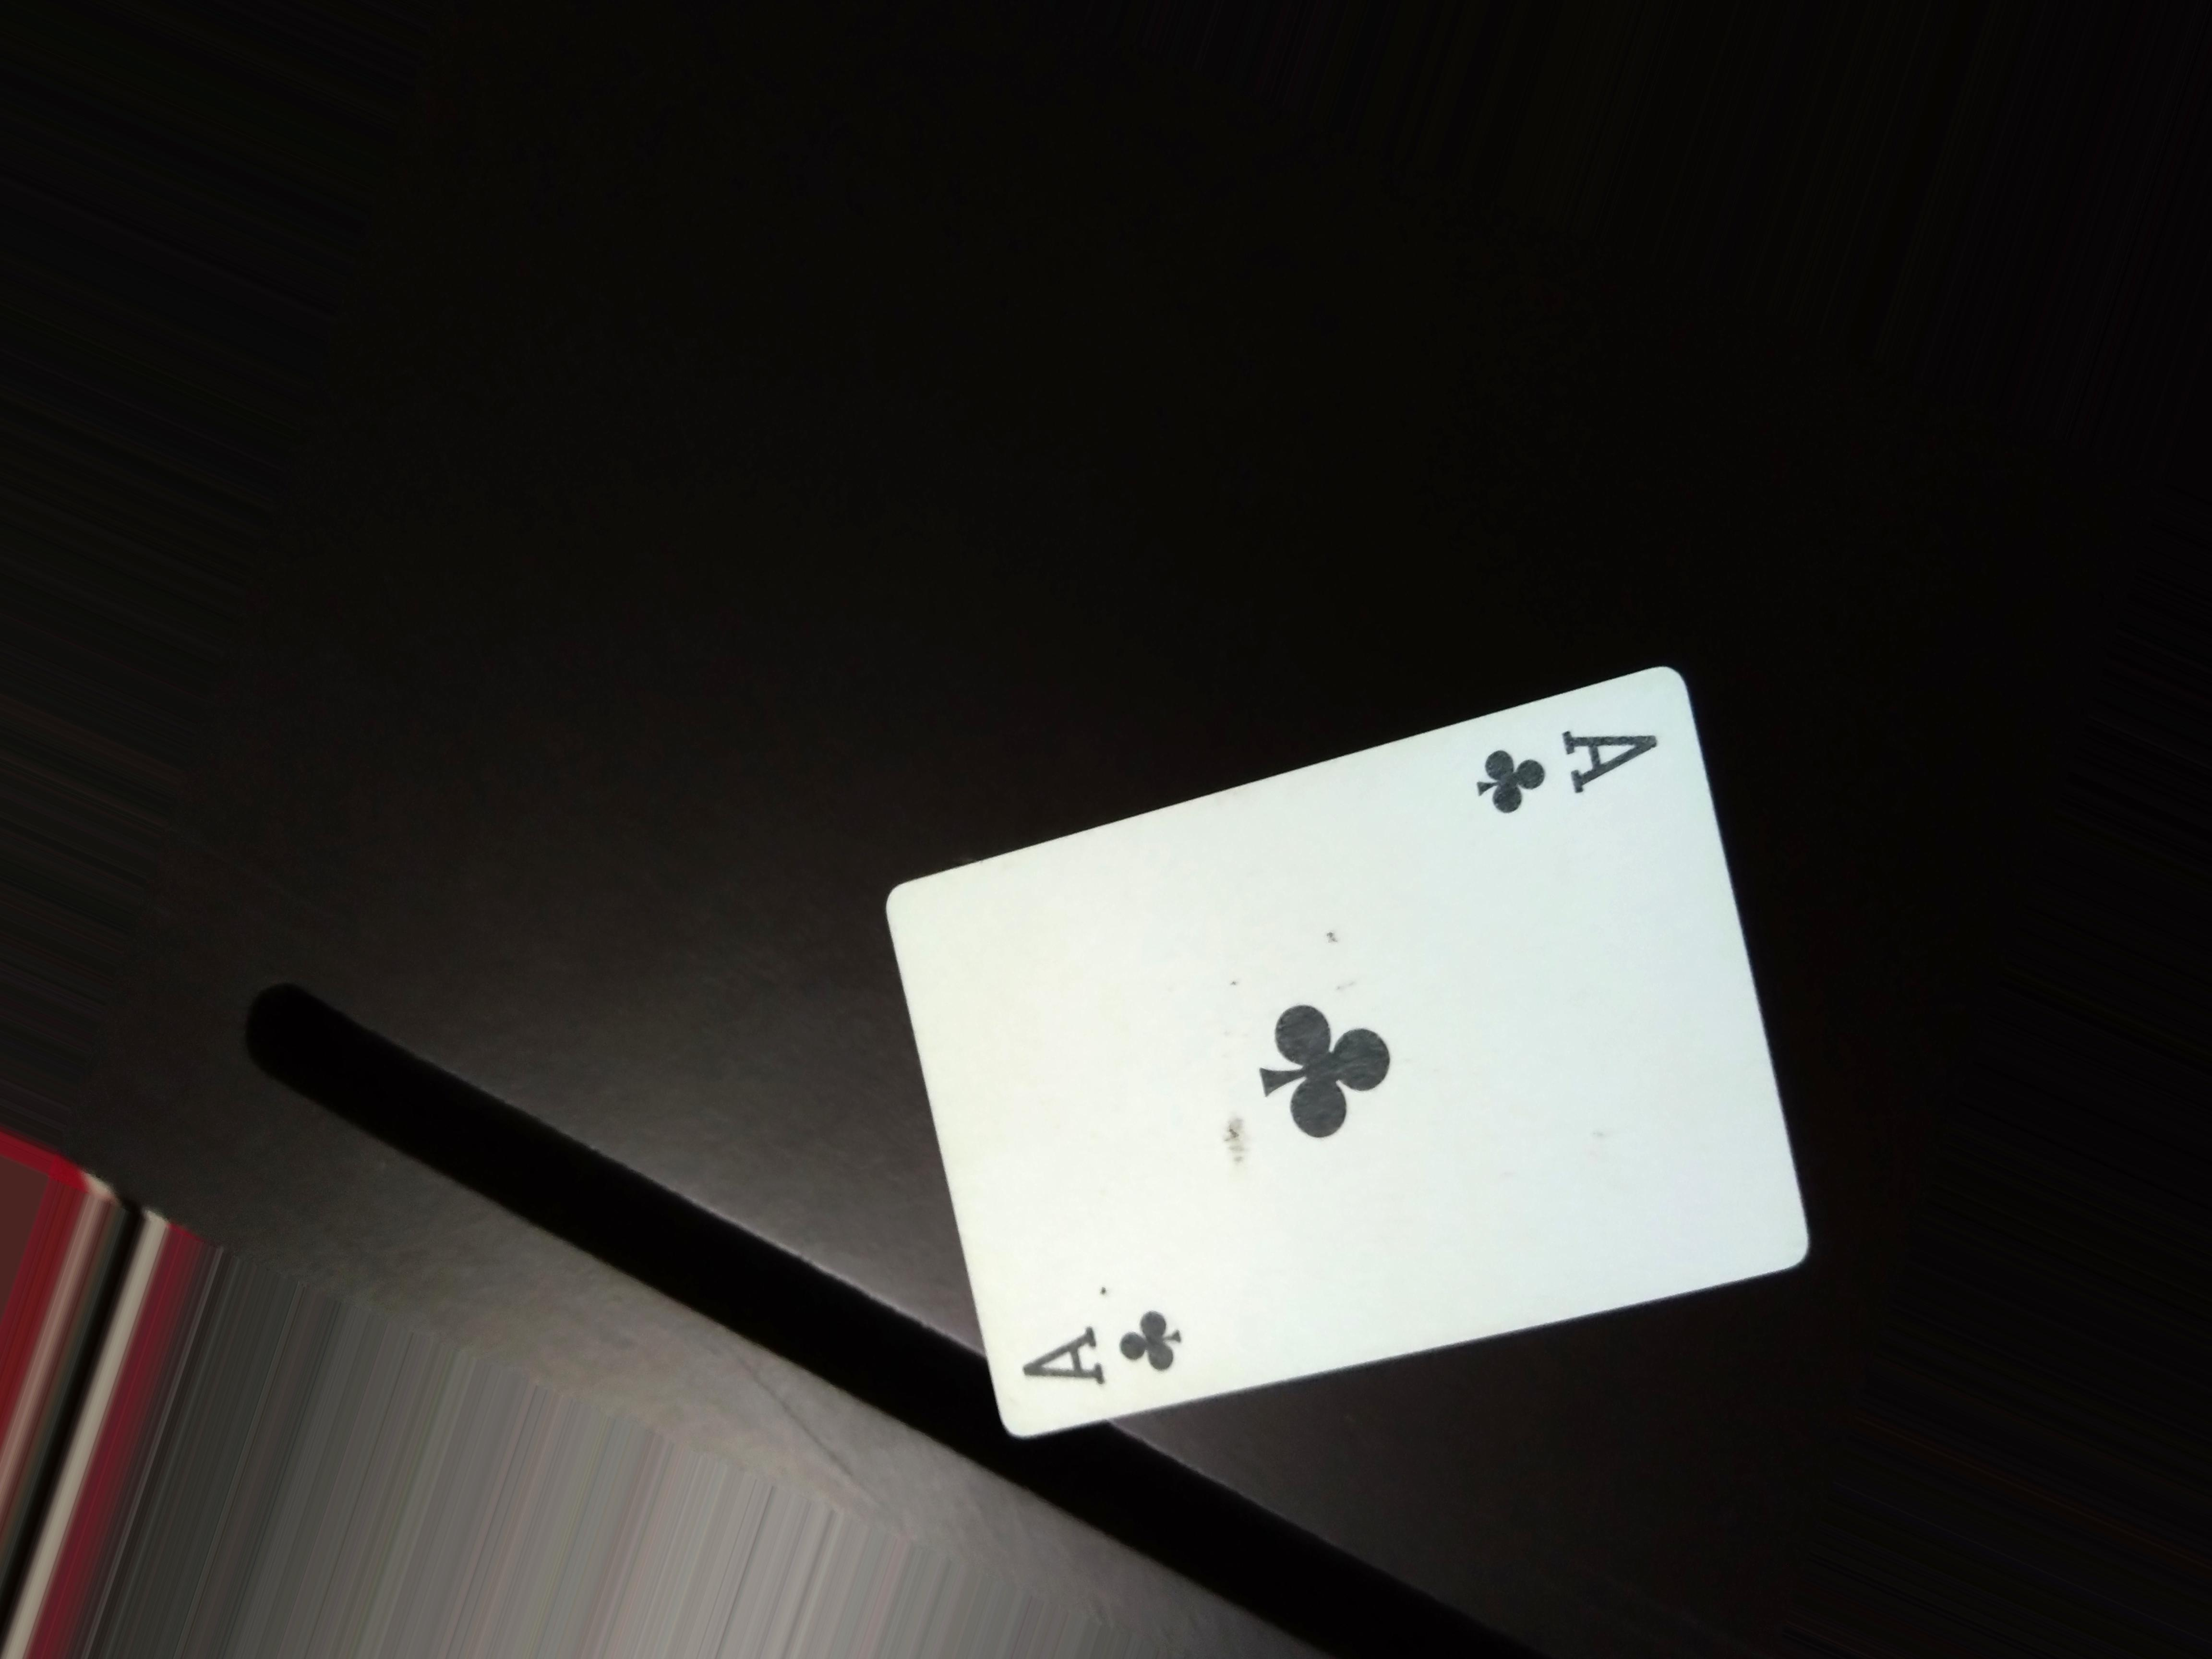AC: (1014, 1317, 1235, 1391)
